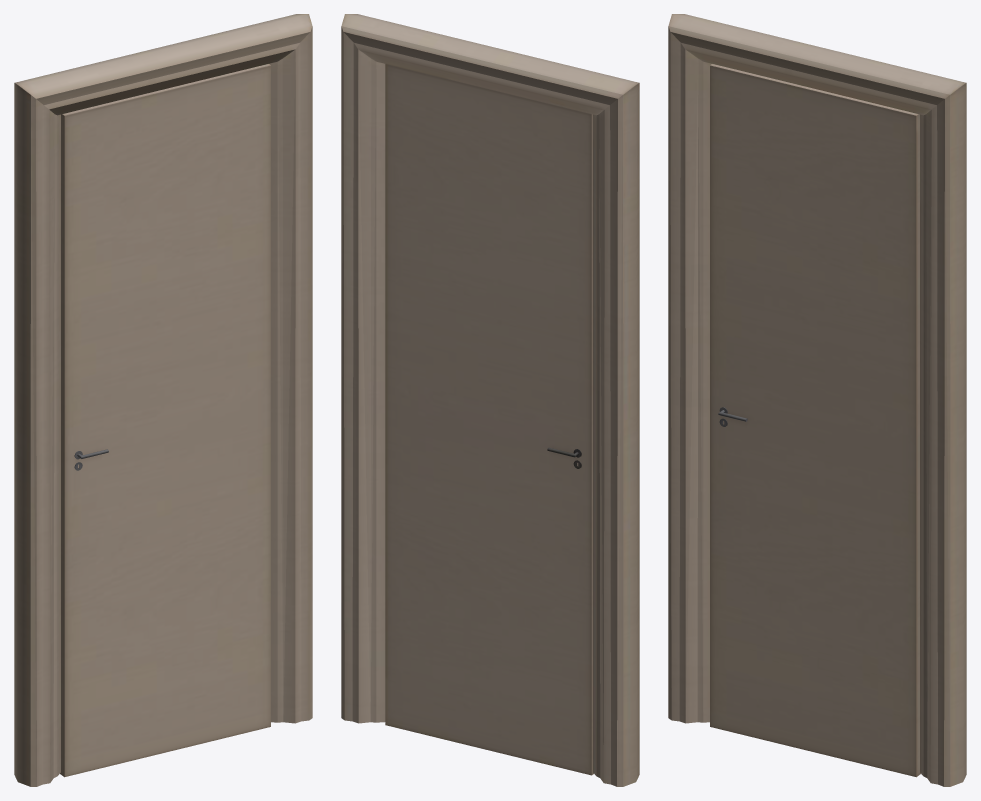
File: beige_door.gltf
The picture shows the model from 3 angles, left to right: view 1: azimuth 30°, elevation 25°; view 2: azimuth 150°, elevation 25°; view 3: azimuth 330°, elevation 25°; orthographic projection.
Parts seen in each view (by area): view 1: PORT001; view 2: PORT001; view 3: PORT001.
Part boxes in pixels (x1,y1,x2,y2): PORT001: (14, 14, 312, 786); PORT001: (341, 14, 639, 786); PORT001: (668, 14, 966, 786).
Bounding box in the file's own units: 1.08 × 2.49 × 0.126.
